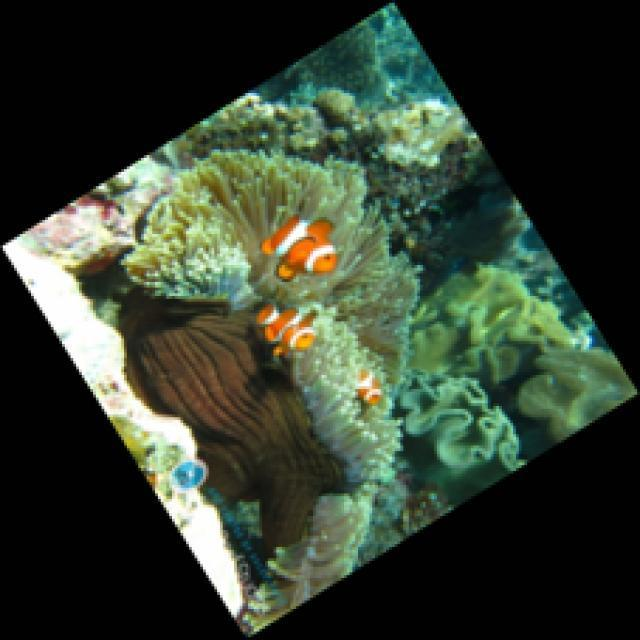Bleached: (125, 143, 423, 629), (1, 240, 243, 615), (404, 364, 526, 494)
